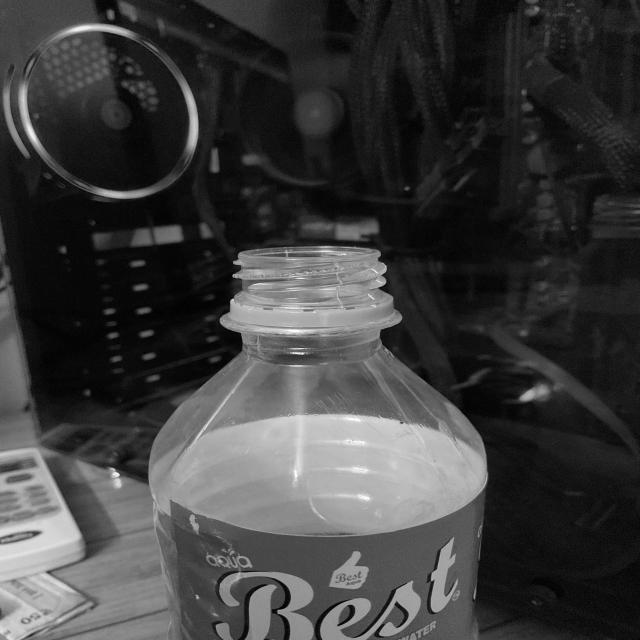open-cap: (226, 246, 396, 328)
